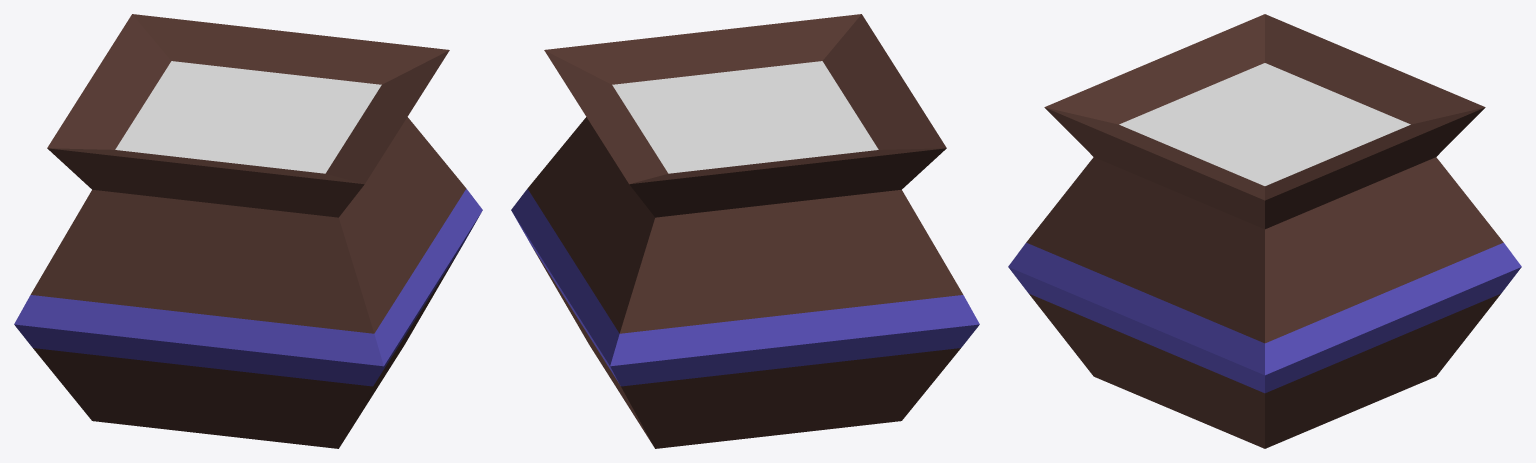
The model's file is item_salt.fbx.
3 renders of one model, left to right at view 1: azimuth 30°, elevation 25°; view 2: azimuth 150°, elevation 25°; view 3: azimuth 270°, elevation 25°, orthographic. The views are drawn at different scales.
Visible parts, largest first — view 1: Salt; view 2: Salt; view 3: Salt.
Boxes of the visible parts, left/top/right/bottom form: Salt: left=14, top=14, right=482, bottom=448; Salt: left=511, top=14, right=979, bottom=448; Salt: left=1008, top=14, right=1521, bottom=448.
Size of the model in its own units: 424 by 245 by 424.
